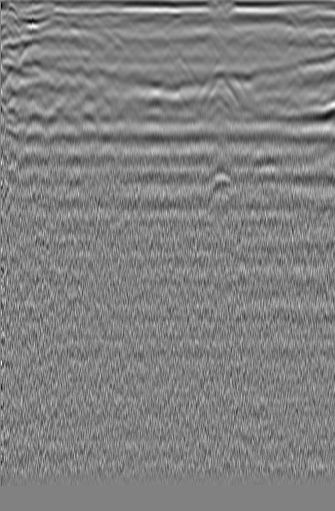가스: (204, 159, 238, 199)
상수: (12, 36, 46, 67)
오수: (278, 63, 304, 90)
우수: (143, 77, 169, 106)
